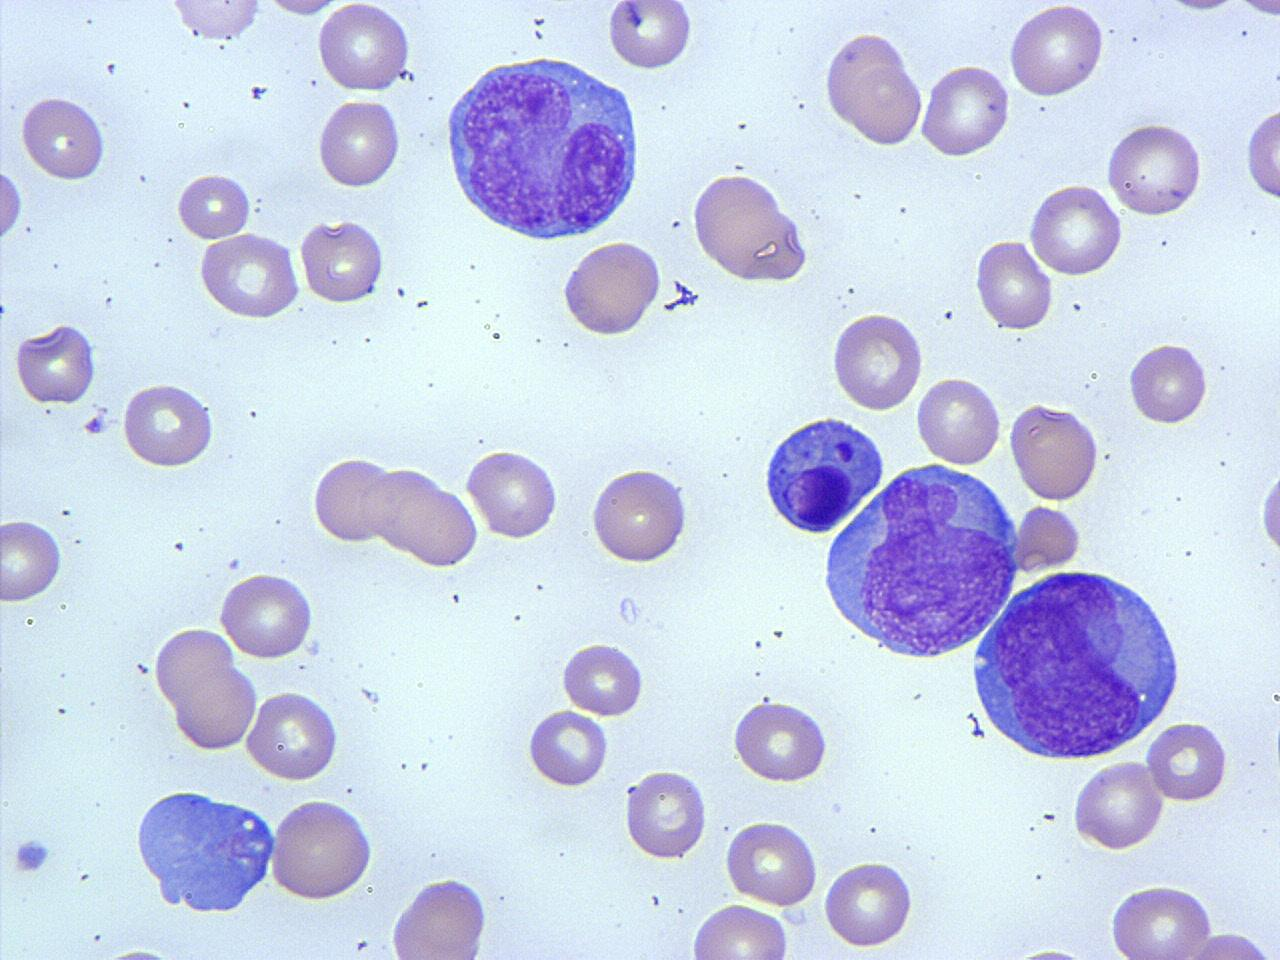Platelets: (10, 834, 55, 878), (102, 938, 187, 960), (249, 83, 268, 101)
RBC: (688, 169, 813, 286), (149, 626, 262, 755), (820, 27, 926, 150), (268, 794, 376, 904), (560, 238, 665, 342), (589, 464, 691, 568), (1103, 118, 1205, 218), (829, 310, 926, 413), (196, 229, 303, 322), (1006, 1, 1105, 102), (1008, 400, 1102, 504), (1025, 182, 1125, 277), (464, 446, 562, 542), (243, 688, 341, 784), (315, 1, 413, 96), (920, 59, 1012, 160), (386, 872, 494, 958), (216, 570, 317, 661), (1071, 757, 1167, 853), (117, 381, 218, 471), (820, 856, 915, 951), (1106, 880, 1220, 959), (730, 698, 831, 786), (722, 817, 820, 907), (912, 374, 1004, 468), (17, 93, 112, 184), (316, 94, 402, 192), (298, 214, 385, 308), (623, 767, 709, 861), (974, 237, 1055, 334), (1143, 716, 1231, 804), (12, 320, 99, 406), (1125, 340, 1209, 429), (311, 454, 390, 548), (403, 481, 480, 572), (525, 707, 610, 789), (560, 639, 645, 717), (364, 464, 438, 552), (604, 0, 695, 71), (687, 899, 793, 959), (0, 514, 65, 608), (174, 169, 252, 242), (1012, 502, 1083, 574), (1139, 924, 1280, 960), (1244, 102, 1280, 204), (1254, 449, 1280, 564), (0, 157, 24, 247), (256, 0, 348, 21)
WBC: (964, 558, 1188, 766), (818, 458, 1022, 666), (438, 48, 642, 246), (129, 783, 279, 916), (759, 411, 887, 536), (16, 92, 115, 187), (162, 0, 269, 41)
